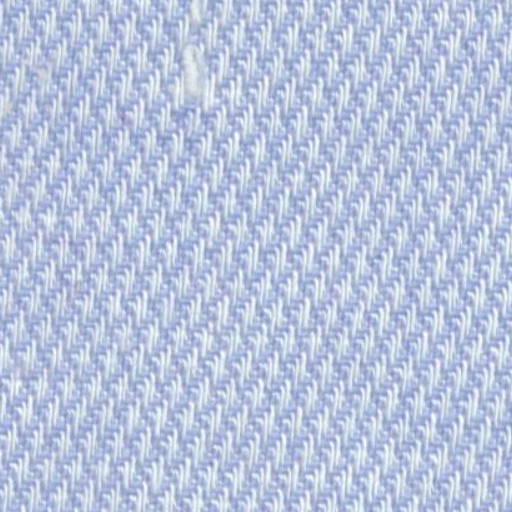DuanSha: (164, 16, 237, 122)
